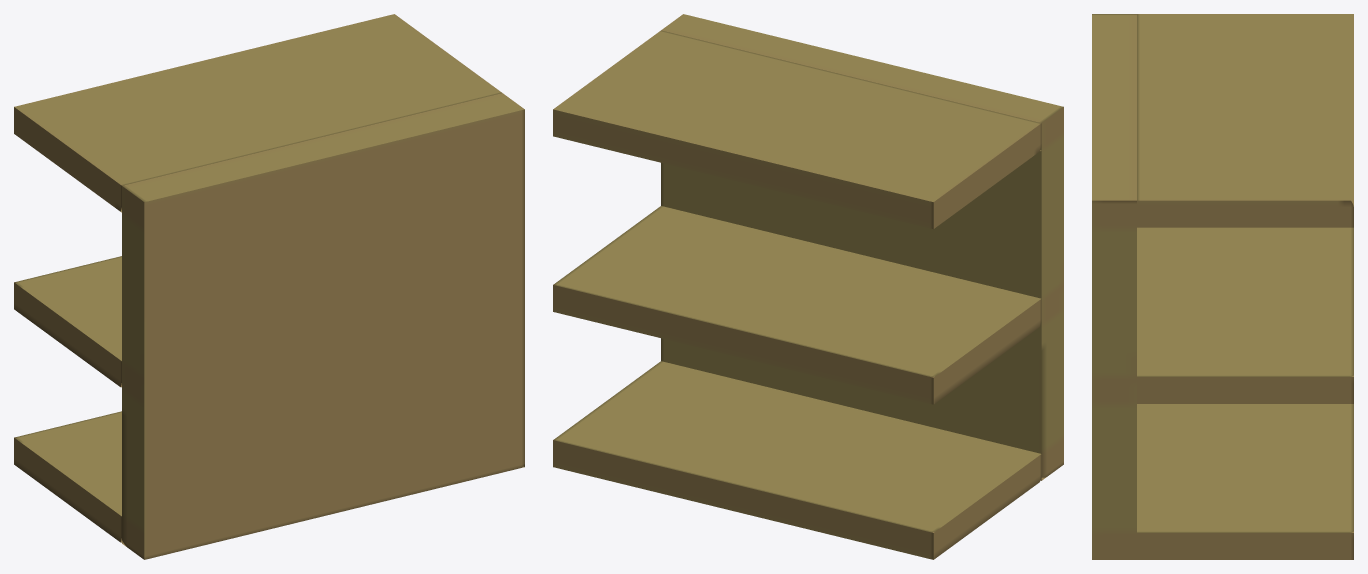
3 views of the same model, side by side, from view 1: azimuth 30°, elevation 25°; view 2: azimuth 150°, elevation 25°; view 3: azimuth 270°, elevation 25° (orthographic).
Visible parts, largest first — view 1: cube; view 2: cube; view 3: cube.
Part boxes in pixels (x1,y1,x2,y2): cube: [14, 14, 524, 559]; cube: [553, 14, 1063, 559]; cube: [1092, 14, 1353, 559].
Bounding box in the file's own units: 1.84 × 1.66 × 1.09.
Materials: 1 (1 with a texture image).
